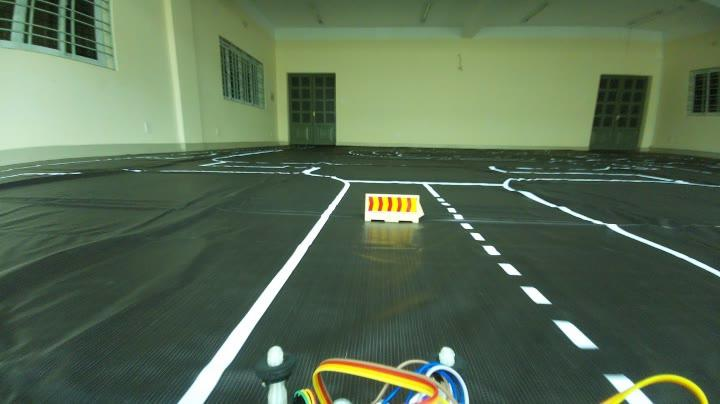roadblock: (356, 186, 430, 231)
